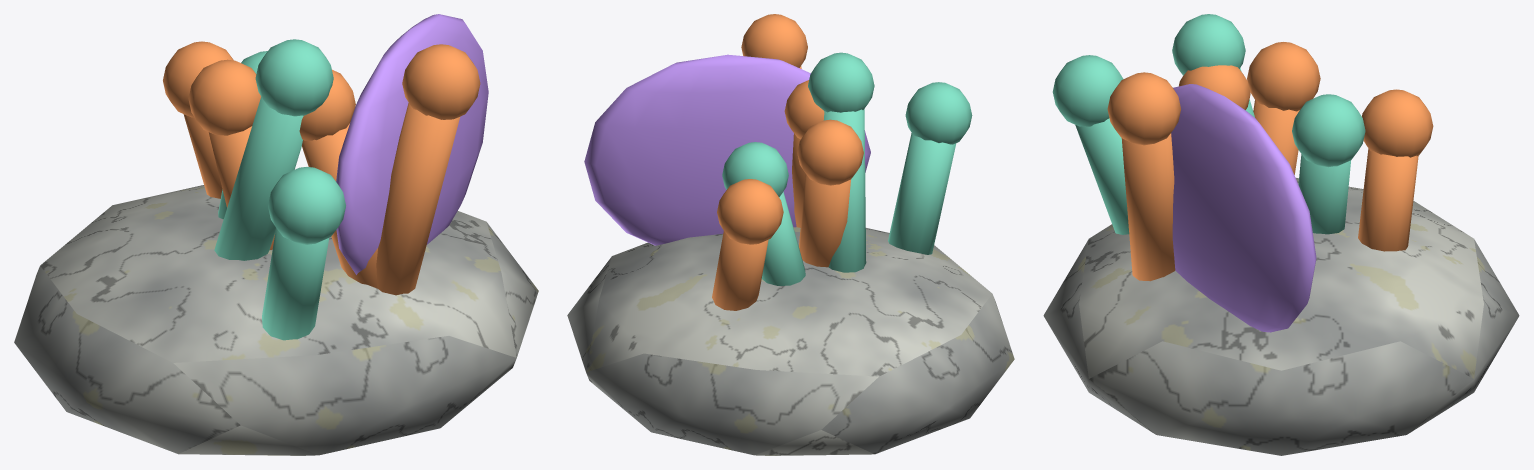
File: coral2.glb
3 views of the same model, side by side, from view 1: azimuth 30°, elevation 25°; view 2: azimuth 150°, elevation 25°; view 3: azimuth 270°, elevation 25° (orthographic). The views are drawn at different scales.
Parts seen in each view (by area): view 1: coral2; view 2: coral2; view 3: coral2.
Part boxes in pixels (left/top/right/bottom): coral2: left=14, top=14, right=538, bottom=455; coral2: left=567, top=14, right=1014, bottom=455; coral2: left=1043, top=14, right=1519, bottom=455.
Size of the model in its own units: 0.8591 by 0.7423 by 0.84.
Materials: 4 (1 with a texture image).
